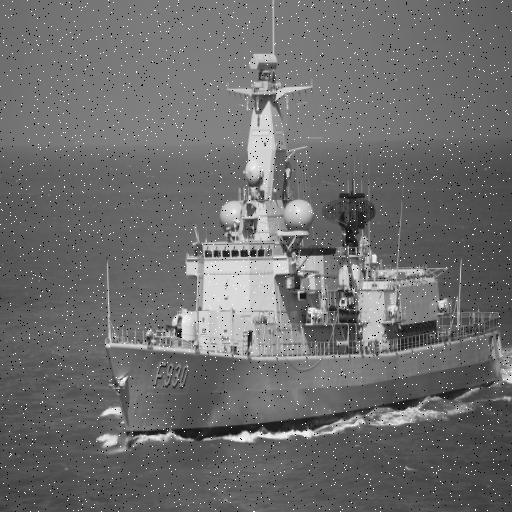Fragata: (101, 1, 512, 454)
